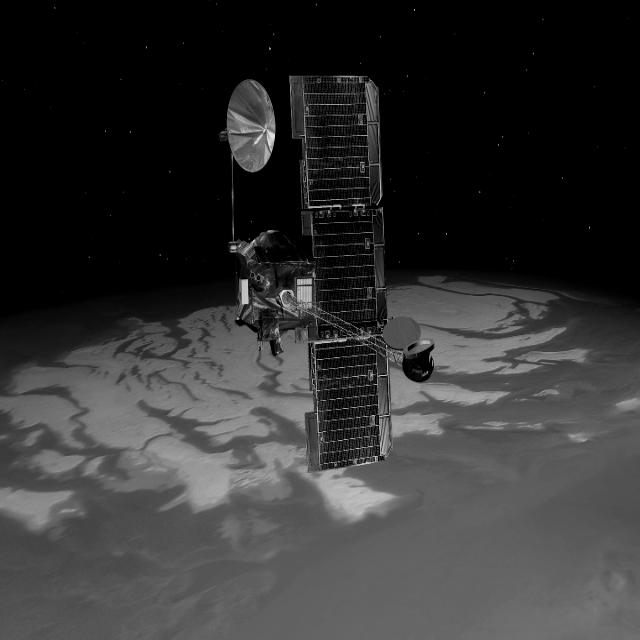medium_debris: (209, 23, 435, 546)
